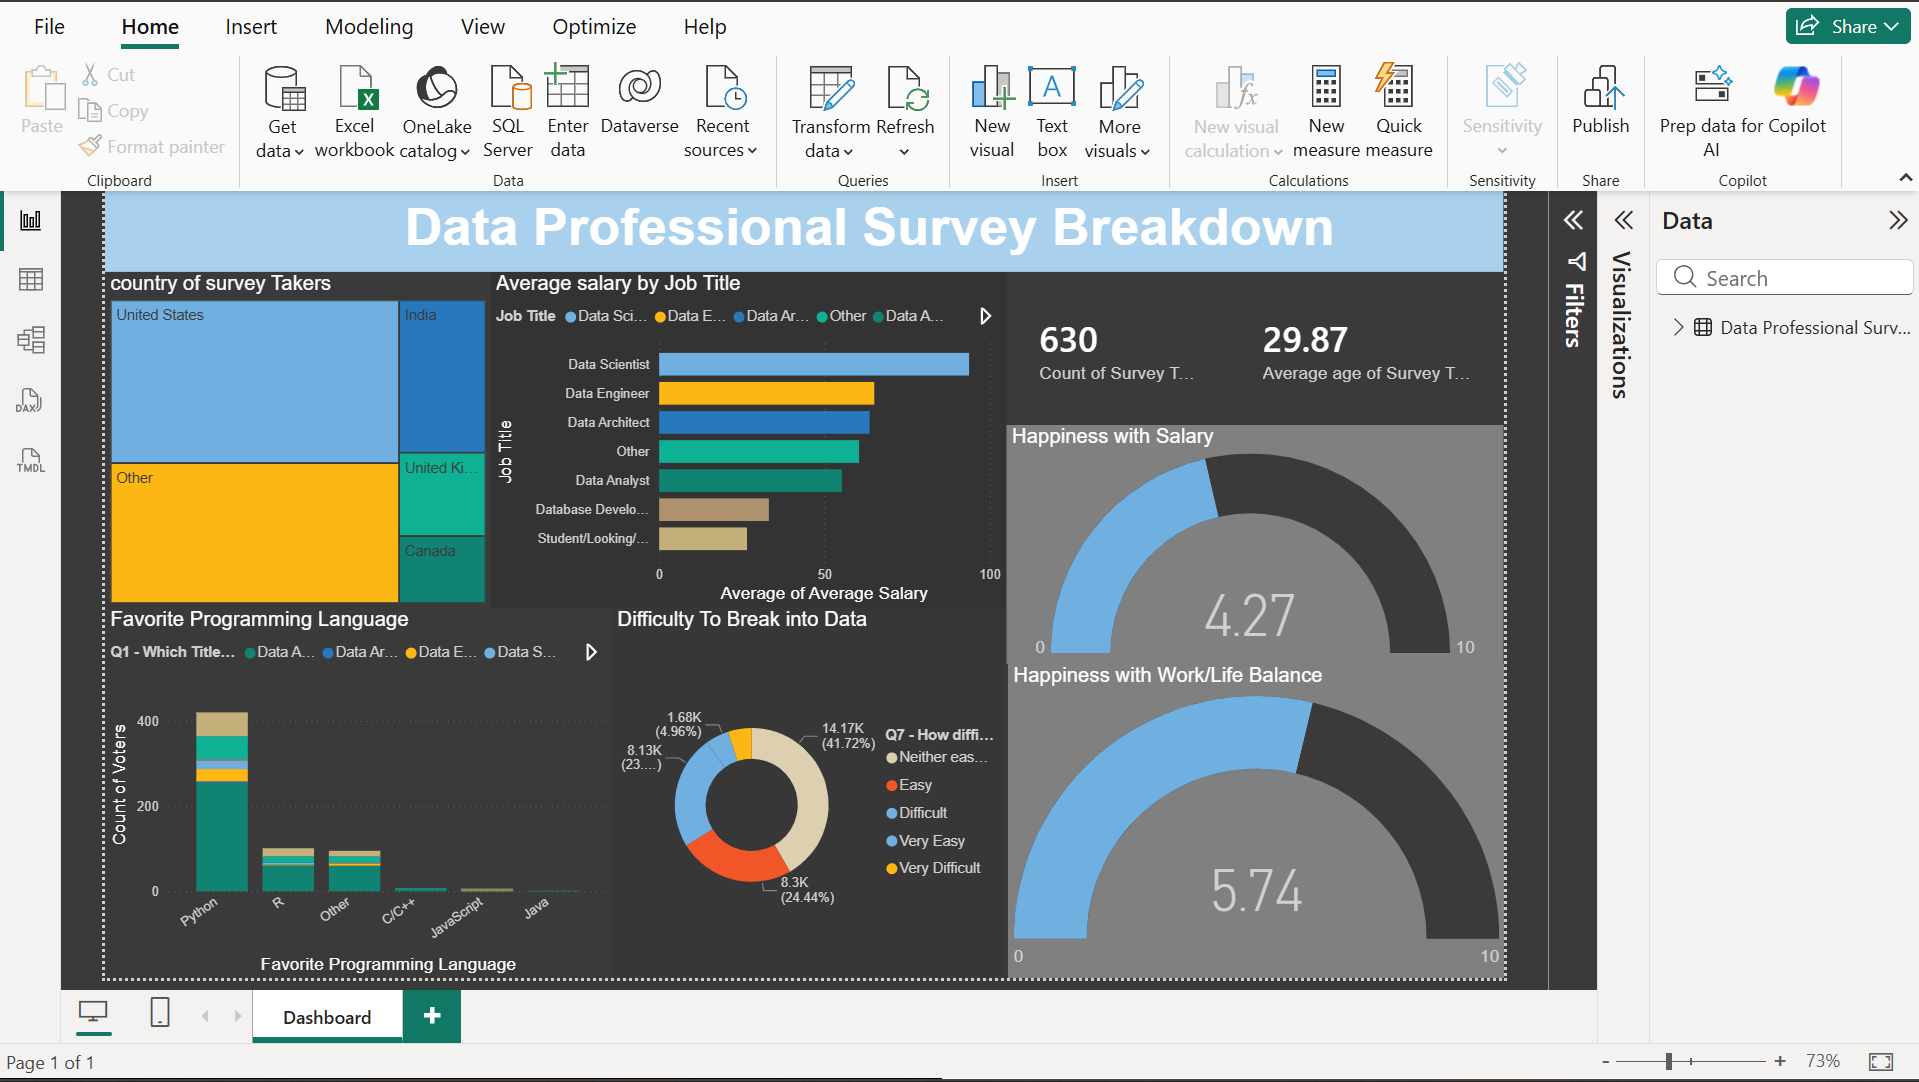

This screenshot's page, from the dashboard's own definition file:
{"tool":"powerbi","page":{"name":"Dashboard","canvas":[1280,720],"ordinal":0},"visuals":[{"type":"textbox","box":[0,0,1279.4,73.7],"z":0},{"type":"cardVisual","fields":{"Data":["CountNonNull(Data Professional Survey.Unique ID)"]},"box":[824.9,74.4,203.8,139.1],"z":1000},{"type":"cardVisual","fields":{"Data":["Avg(Data Professional Survey.Q10 - Current Age)"]},"box":[1029.7,74.2,249.8,139.3],"z":2000},{"type":"barChart","title":"Average salary by Job Title","fields":{"Category":["Data Professional Survey.Q1 - Which Title Best Fits your Current Role?.1"],"Y":["Avg(Data Professional Survey.Average Salary)"],"Series":["Data Professional Survey.Q1 - Which Title Best Fits your Current Role?.1"]},"box":[352.6,74.4,472.3,307.3],"z":3000},{"type":"columnChart","title":"Favorite Programming Language","fields":{"Category":["Data Professional Survey.Q5 - Favorite Programming Language.1"],"Y":["CountNonNull(Data Professional Survey.Unique ID)"],"Series":["Data Professional Survey.Q1 - Which Title Best Fits your Current Role?.1"]},"box":[0,381.9,464.1,338.8],"z":4000},{"type":"treemap","title":"country of survey Takers","fields":{"Values":["CountNonNull(Data Professional Survey.Q11 - Which Country do you live in?.1)"],"Group":["Data Professional Survey.Q11 - Which Country do you live in?.1"]},"box":[0,74.1,352.7,307.4],"z":5000},{"type":"gauge","title":"Happiness with Work/Life Balance","fields":{"Y":["Avg(Data Professional Survey.Q6 - How Happy are you in your Current Position with the following? (Work/Life Balance))"],"MinValue":["Min(Data Professional Survey.Q6 - How Happy are you in your Current Position with the following? (Work/Life Balance))"],"MaxValue":["Max(Data Professional Survey.Q6 - How Happy are you in your Current Position with the following? (Work/Life Balance))1"]},"box":[826.1,432.3,454.2,288.2],"z":6000},{"type":"gauge","title":"Happiness with Salary","fields":{"Y":["Avg(Data Professional Survey.Q6 - How Happy are you in your Current Position with the following? (Salary))"],"MinValue":["Min(Data Professional Survey.Q6 - How Happy are you in your Current Position with the following? (Salary))"],"MaxValue":["Max(Data Professional Survey.Q6 - How Happy are you in your Current Position with the following? (Salary))"]},"box":[824.9,213.5,454.5,218.4],"z":7000},{"type":"donutChart","title":"Difficulty To Break into Data","fields":{"Category":["Data Professional Survey.Q7 - How difficult was it for you to break into Data?"],"Y":["Sum(Data Professional Survey.Average Salary)"]},"box":[463.8,381.5,360.9,339],"z":8000}]}

Visuals, with their boxes on the page's 1280x720 design canvas (x1, y1, x2, y2). These are canvas units, not pixel positions in the 1919x1082 screenshot, which may show the page scaled, cropped or inside an application window:
textbox: (0, 0, 1279, 74)
cardVisual - CountNonNull(Data Professional Survey.Unique ID): (825, 74, 1029, 214)
cardVisual - Avg(Data Professional Survey.Q10 - Current Age): (1030, 74, 1280, 214)
"Average salary by Job Title" barChart: (353, 74, 825, 382)
"Favorite Programming Language" columnChart: (0, 382, 464, 721)
"country of survey Takers" treemap: (0, 74, 353, 382)
"Happiness with Work/Life Balance" gauge: (826, 432, 1280, 720)
"Happiness with Salary" gauge: (825, 214, 1279, 432)
"Difficulty To Break into Data" donutChart: (464, 382, 825, 720)
